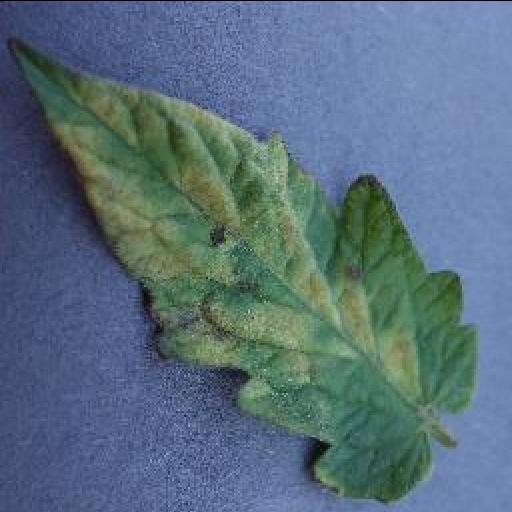disease_tomato: (5, 36, 475, 501)
